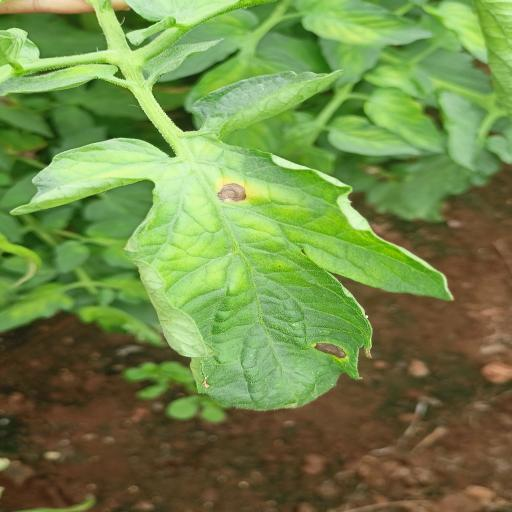Early Blight: (10, 133, 460, 415)
